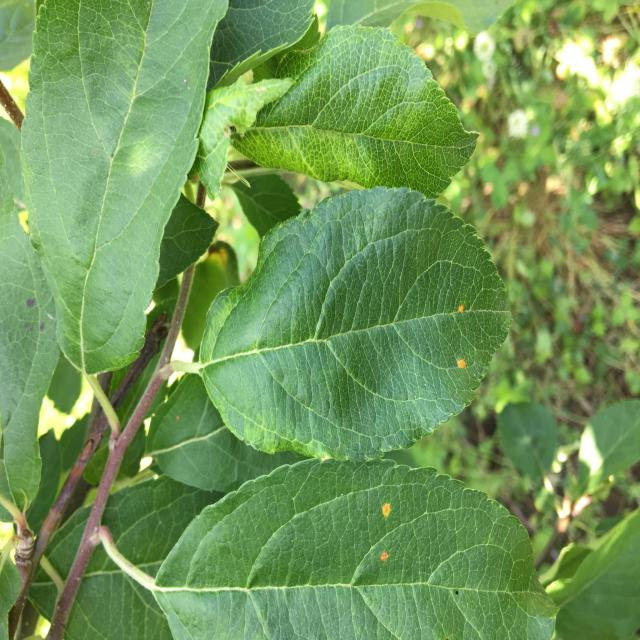Rust: (357, 543, 403, 574), (442, 294, 473, 322), (370, 496, 404, 520), (447, 355, 477, 380)
